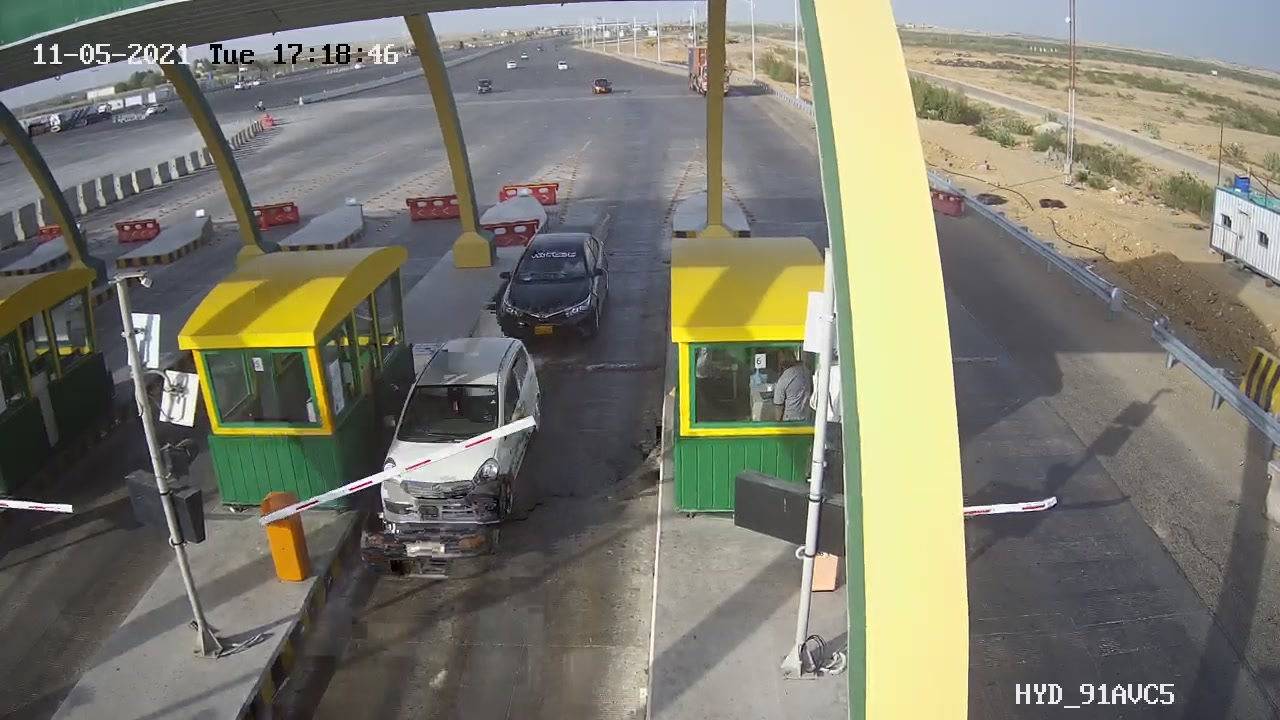F1: (482, 214, 624, 355)
